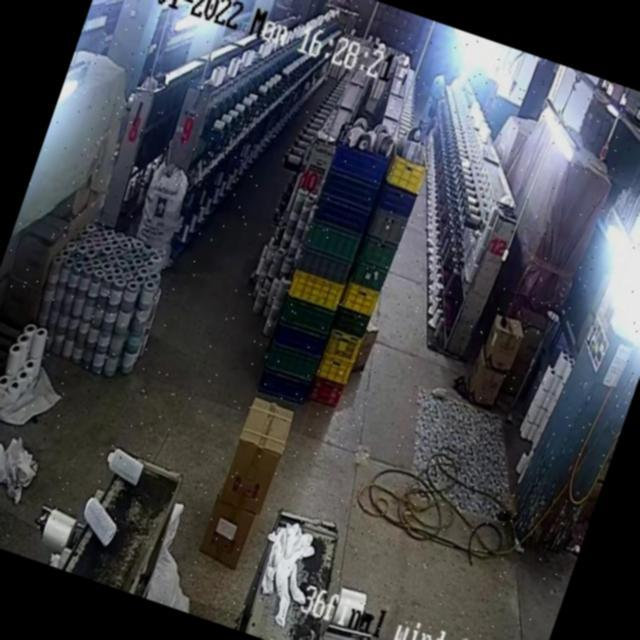person: (416, 68, 451, 138)
